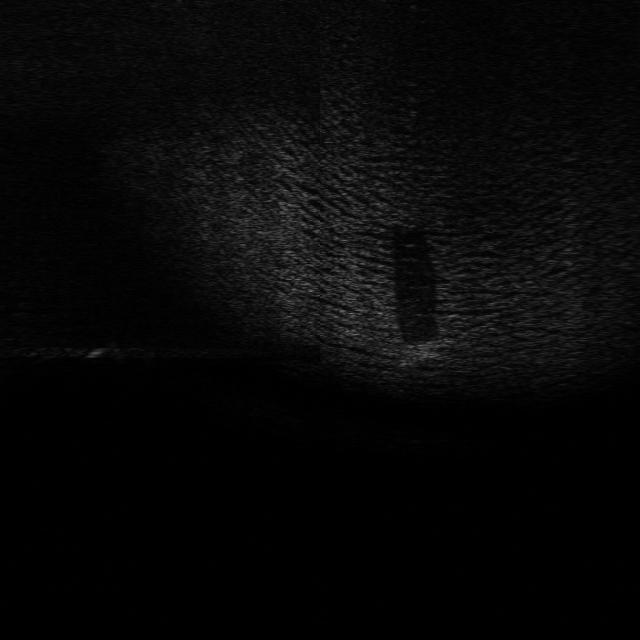cube: (401, 339, 442, 367)
